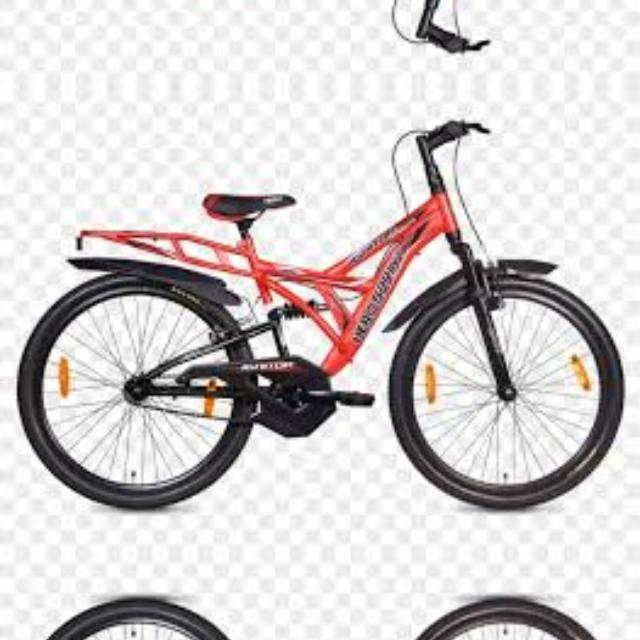obstacle: (12, 100, 634, 524), (12, 0, 633, 72), (12, 582, 633, 640)
